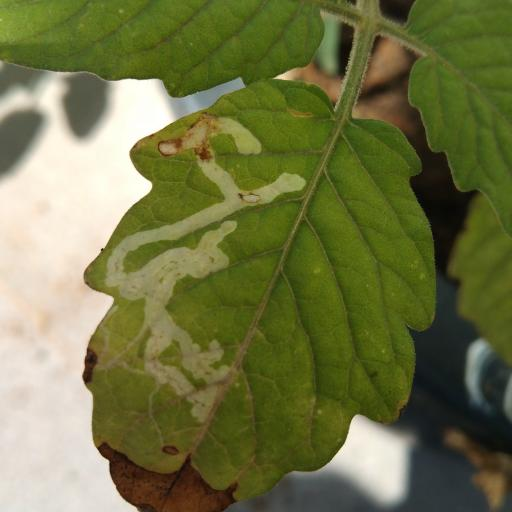disease_tomato: (82, 76, 434, 500)
